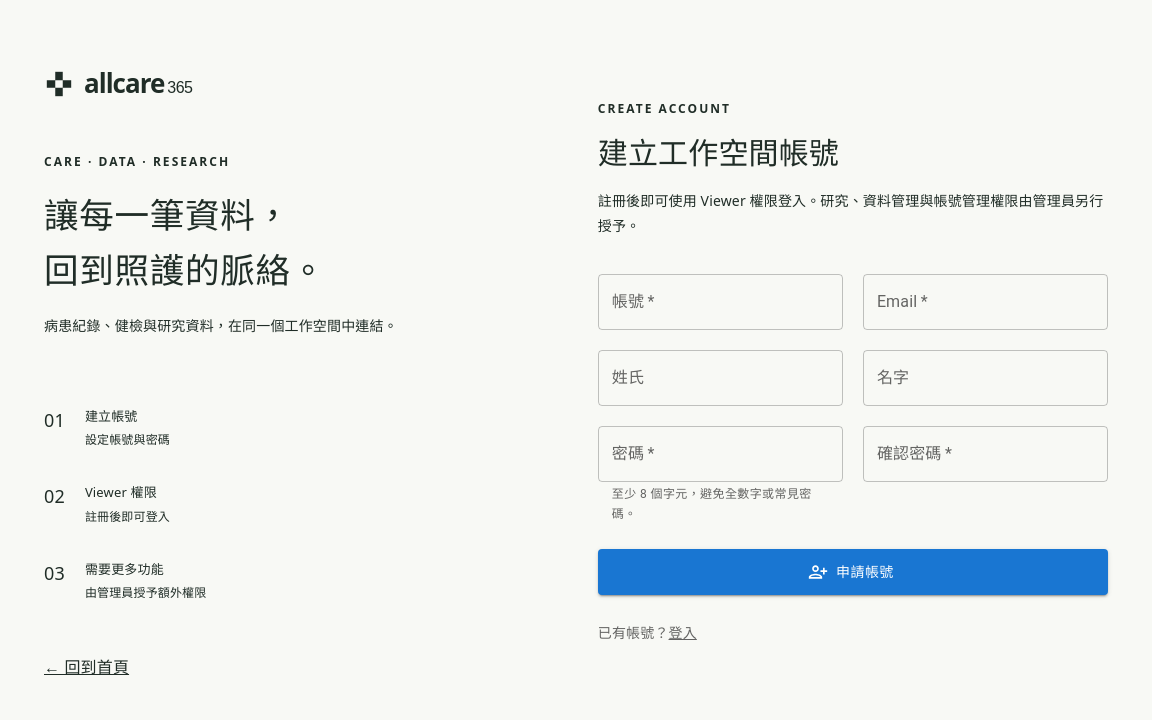
Test: registration password mismatch focuses the explanation and preserves editable fields
Step 1. Type "Synthetic-Password-1" into the password field labelled "密碼 *" → (720, 454), box x1=598 y1=426 x2=843 y2=482
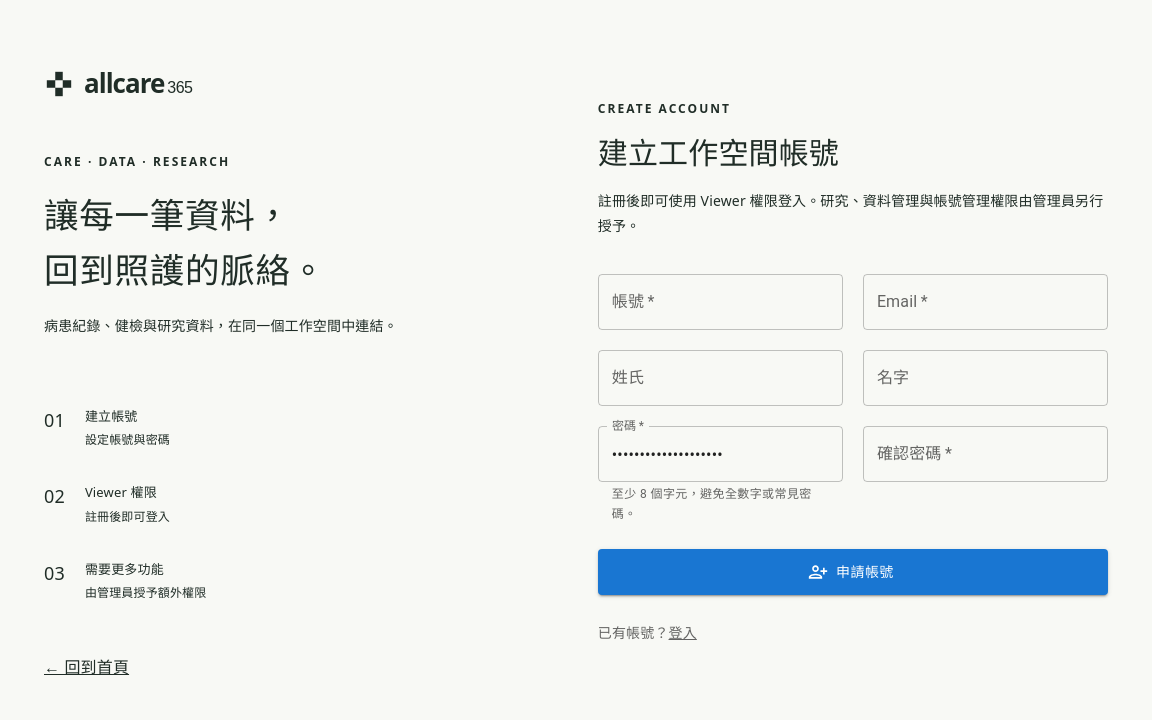
Step 2. Type "Synthetic-Password-2" into the password field labelled "確認密碼 *" → (985, 454), box x1=863 y1=426 x2=1108 y2=482
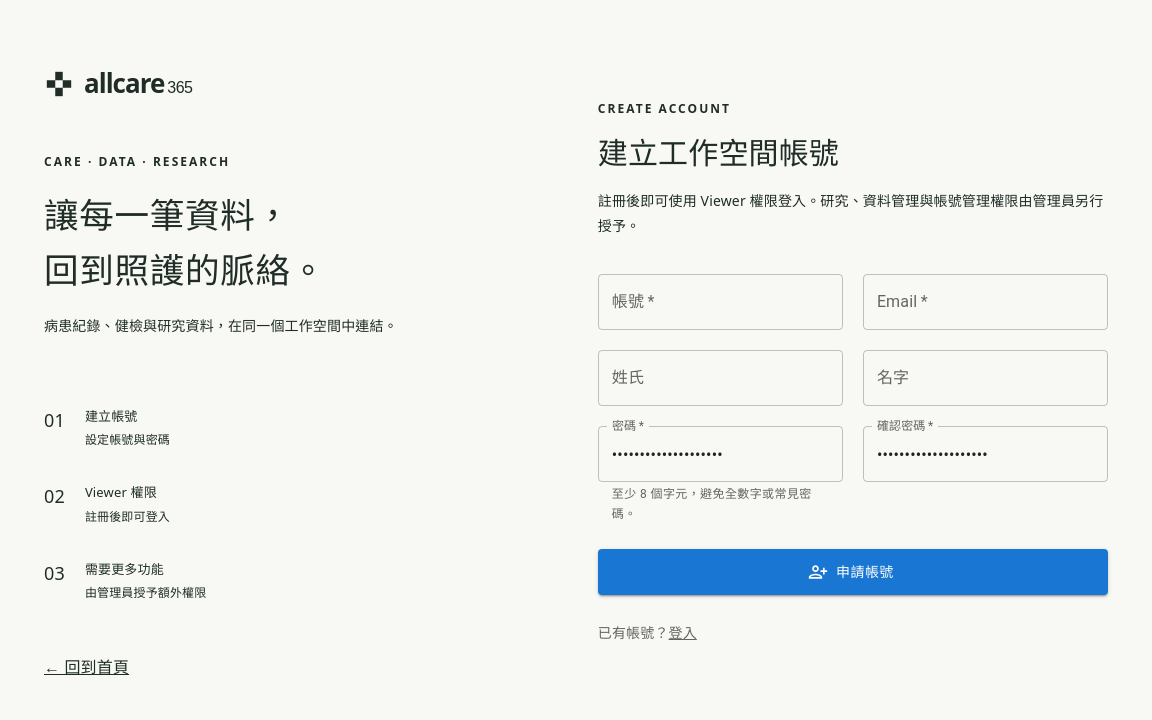
Step 3. Submit the form "申請帳號", box x1=598 y1=266 x2=1108 y2=595
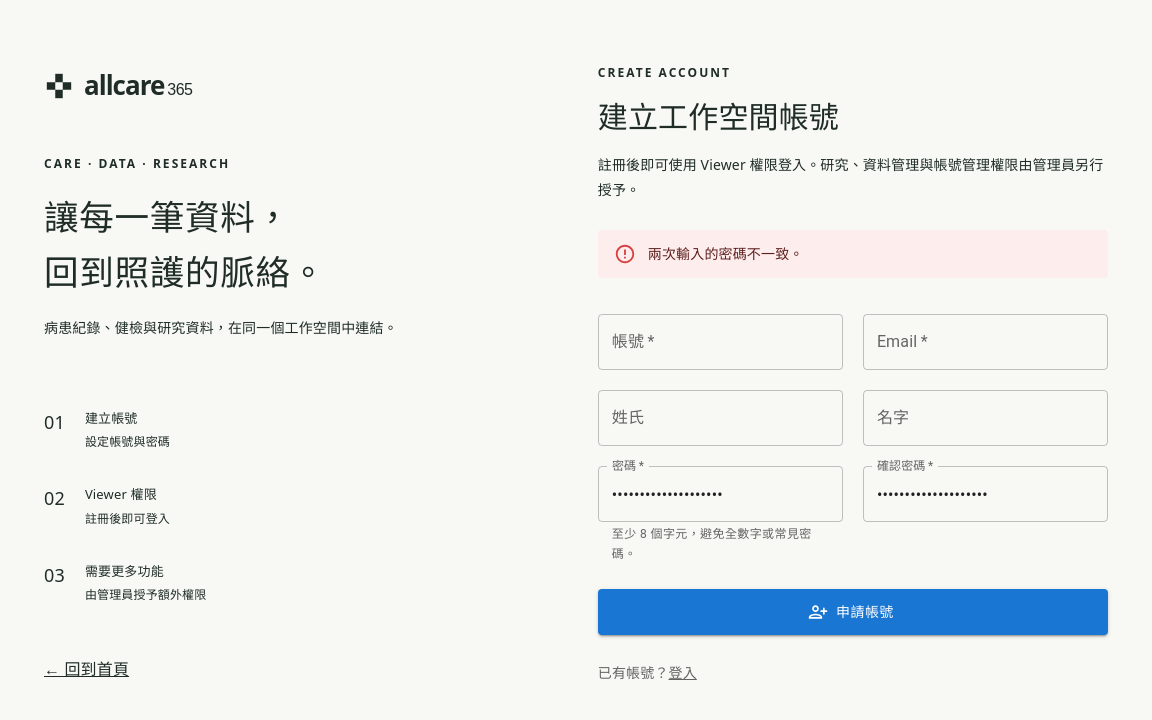
expect the button "申請帳號" is enabled: met, box x1=598 y1=589 x2=1108 y2=635
expect the message reads "兩次輸入的密碼不一致。": met, box x1=648 y1=246 x2=804 y2=262
